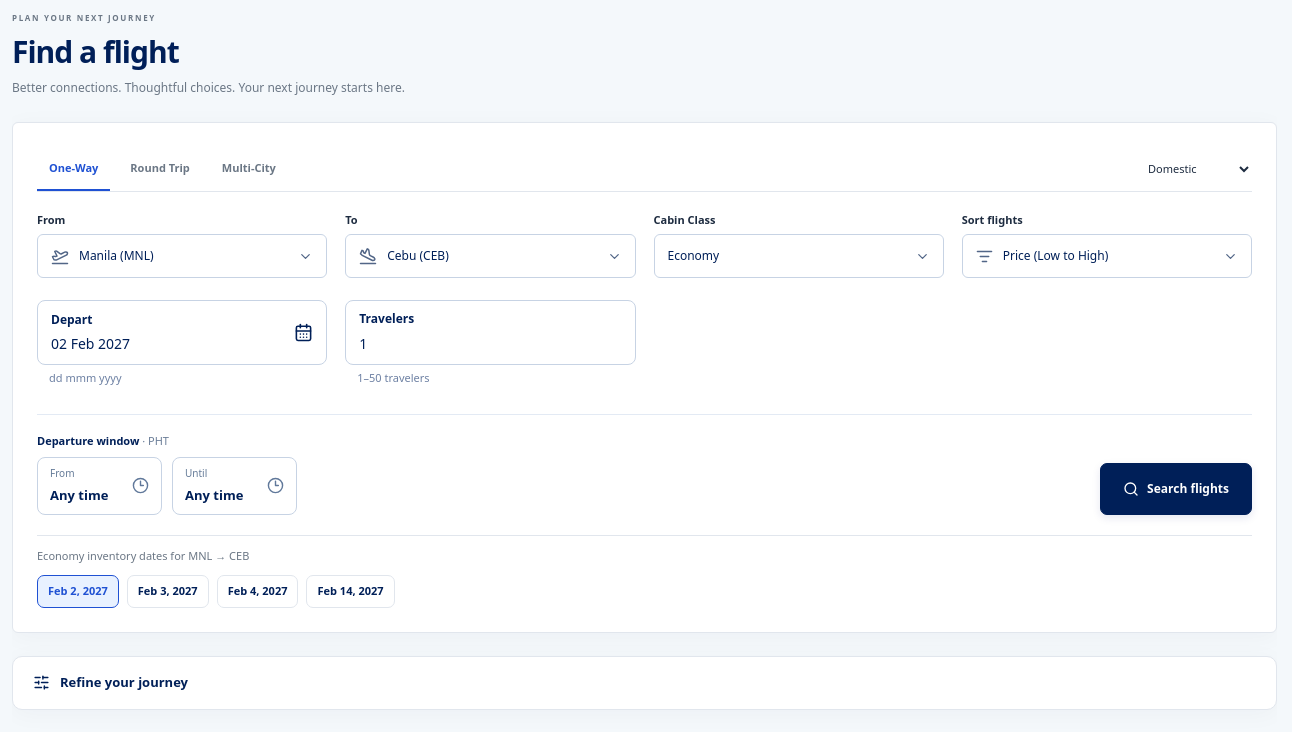
Test: Find a flight page with seeded Supabase inventory › keeps the committed route until a dropdown option is selected and disables the opposite airport
Step 1. Click the dropdown named "To" → [418, 256], box [345, 234, 636, 278]
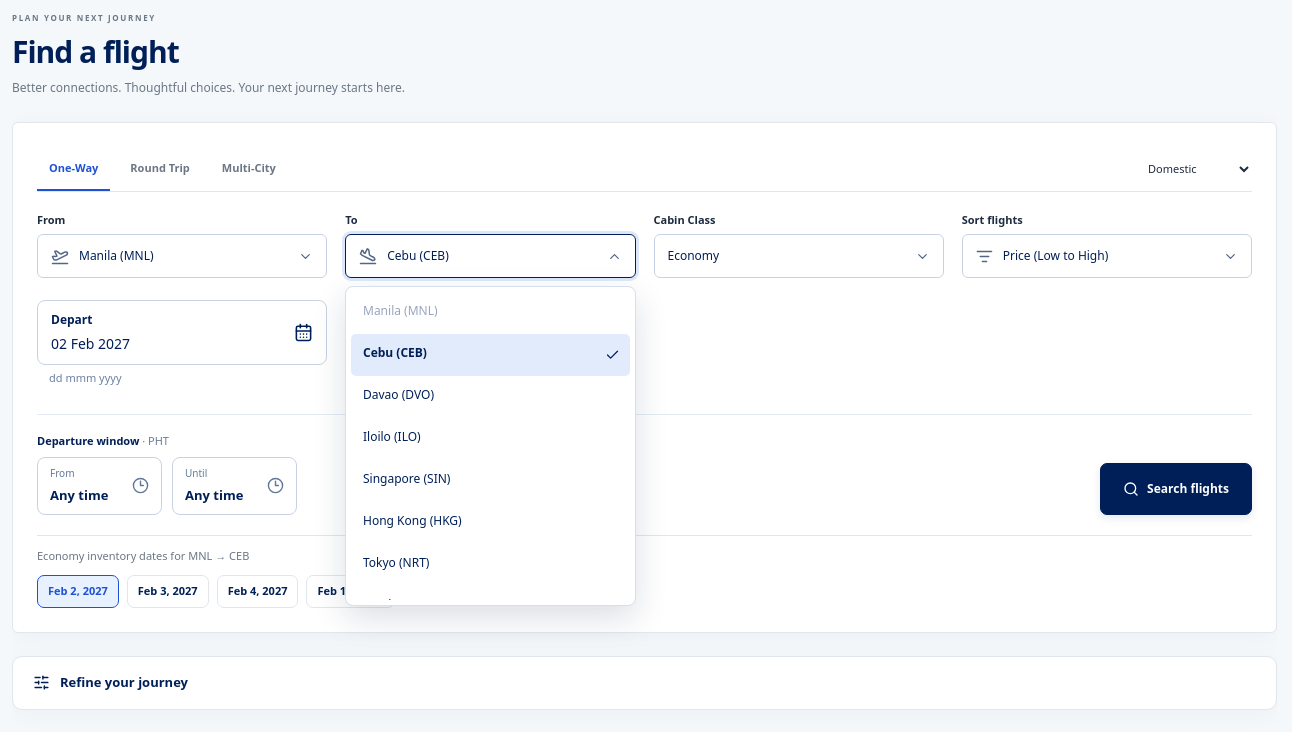
Step 2. Click the option "Davao (DVO)" → [398, 394], box [363, 386, 434, 403]
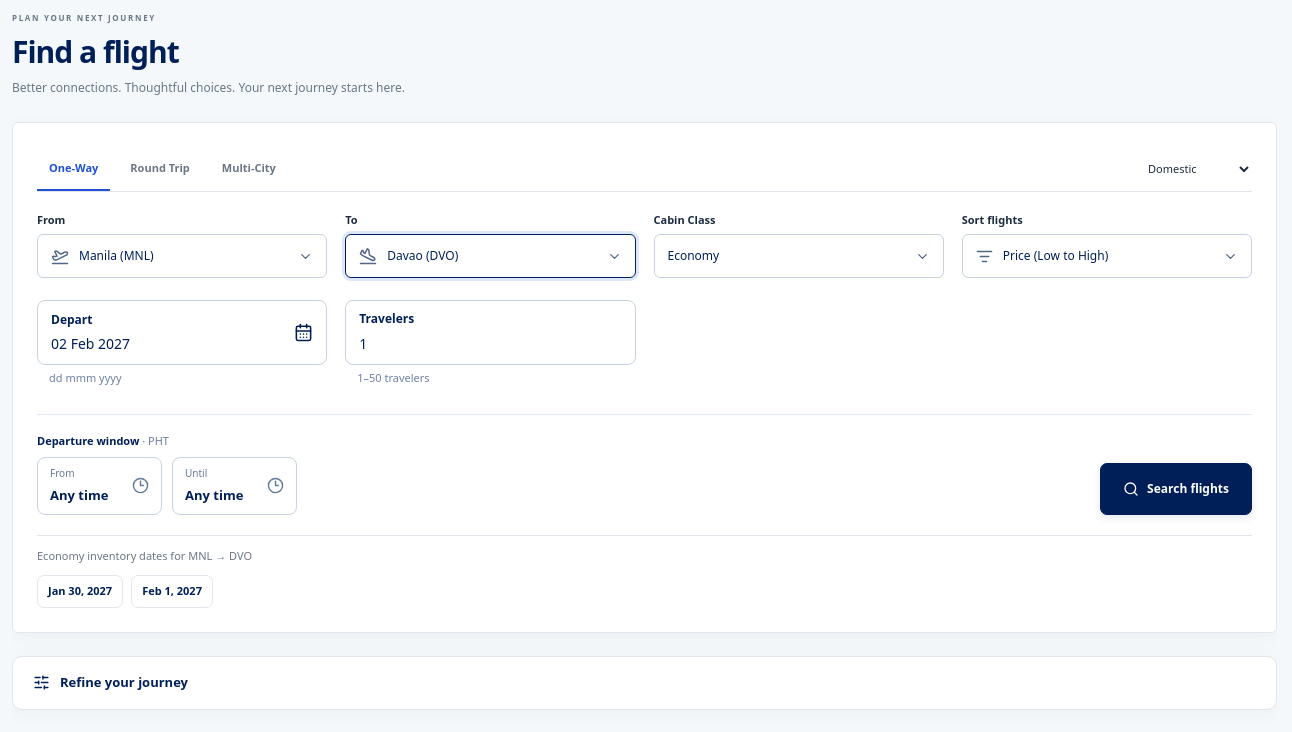
Check: the dropdown named "To" reads "Davao (DVO)", box [345, 234, 636, 278]
